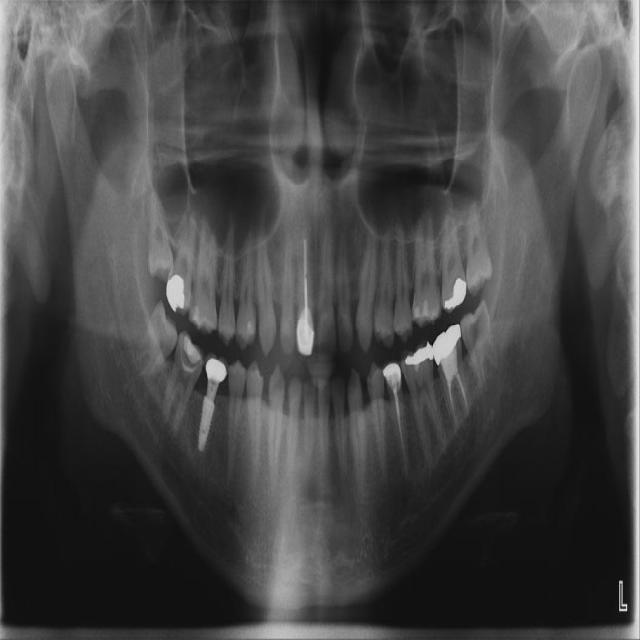Crown: (295, 306, 317, 360), (432, 323, 461, 363)
Filling: (440, 276, 468, 309), (167, 273, 186, 310), (184, 335, 202, 364)
Implant: (197, 379, 218, 451)
Root Canal Treatment: (394, 385, 404, 447), (459, 375, 468, 413), (302, 240, 307, 305), (450, 385, 452, 405), (452, 405, 455, 414)
impacted tooth: (112, 299, 175, 395), (460, 304, 507, 393), (465, 197, 493, 287), (145, 185, 172, 273)
